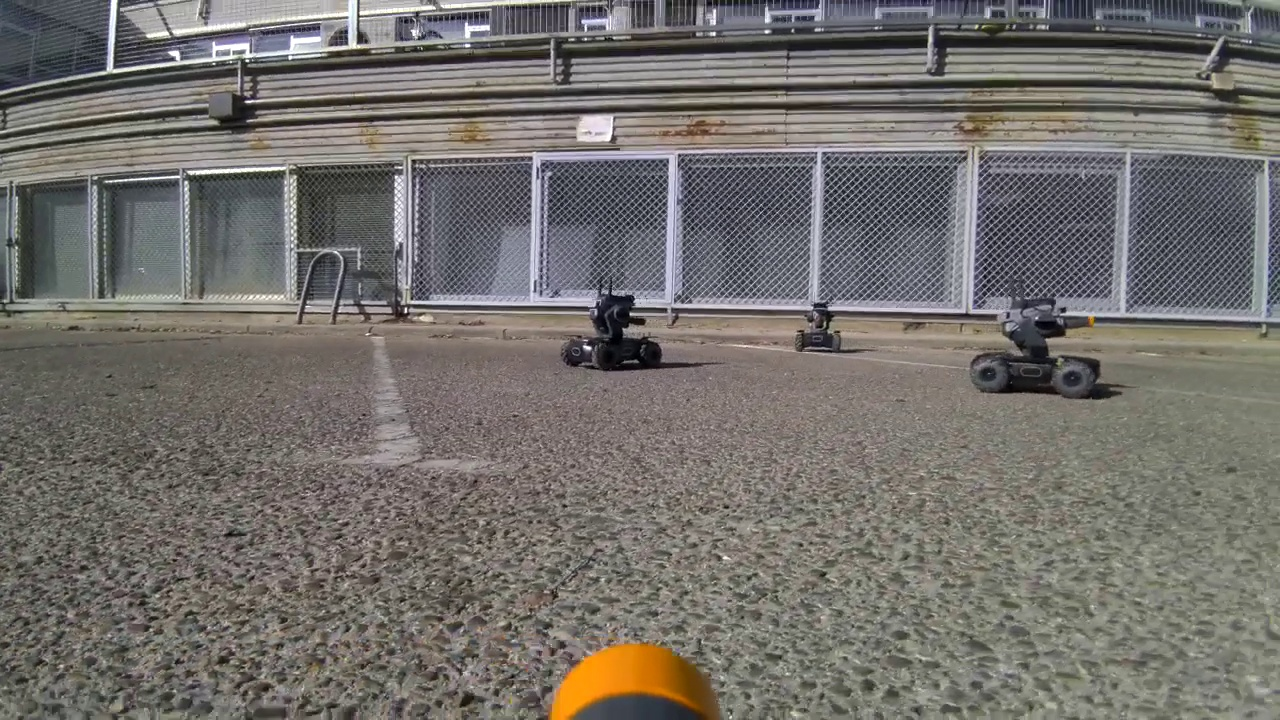robot: (960, 272, 1104, 399), (559, 276, 670, 371), (786, 292, 843, 353)
